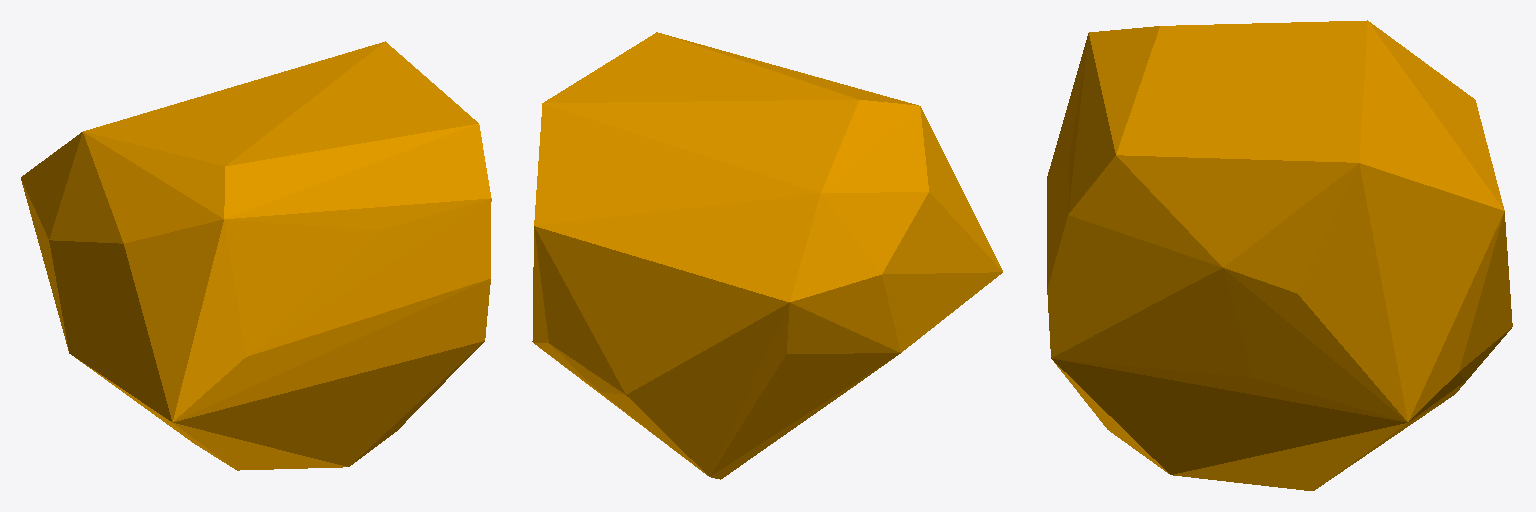
The robot description file, URDF, robot "77_370":
<?xml version="1.0"?>
<robot name="77_370">
  <link name="link">
    <contact>
      <lateral_friction value="0.6"/>
    </contact>
    <inertial>
      <mass value = "0.8431969007762551"/>
      <inertia ixx="0.0006348076296435952" ixy="1.6286729539350442e-05" ixz="1.8228469717220295e-05" iyy="0.0006322036769707892" iyz="-1.5474675343179706e-05" izz="0.0007041557096491016" />
    </inertial>
    <visual name="visual">
      <geometry>
        <mesh filename="77_370.obj"/>
      </geometry>
    </visual>
    <collision name="collision">
      <geometry>
        <mesh filename="77_370.obj"/>
      </geometry>
    </collision>
  </link>
</robot>

--- Render facts (derived) ---
The picture shows the robot from 3 angles, left to right: view 1: azimuth 30°, elevation 25°; view 2: azimuth 150°, elevation 25°; view 3: azimuth 270°, elevation 25°; orthographic projection.
Model 77_370 with 1 links and 0 joints (none), rooted at link, posed every joint at zero.
Links seen in each view (by area): view 1: link; view 2: link; view 3: link.
Link boxes in pixels (bbox=[...]): link: bbox=[21, 41, 491, 470]; link: bbox=[532, 32, 1002, 479]; link: bbox=[1047, 20, 1512, 490].
Size in the robot's own frame: 0.0851 by 0.084 by 0.084 metres.
1 mesh visuals loaded from 1 distinct referenced files (1 OBJ).
